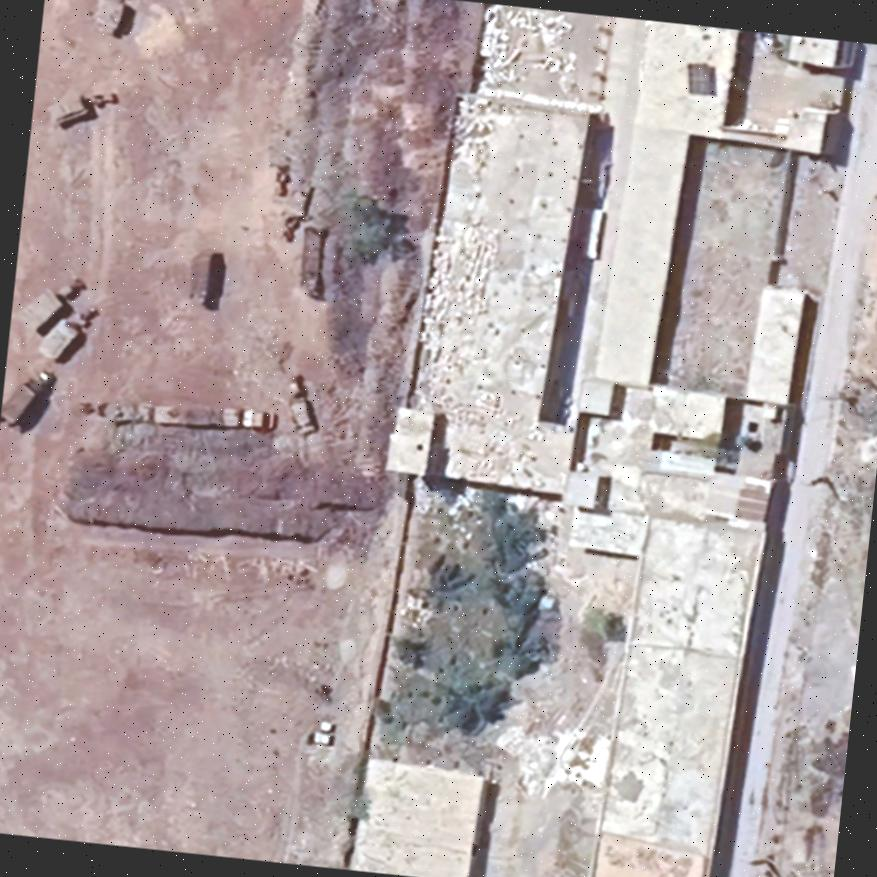Solarpanel: (686, 62, 714, 99)
